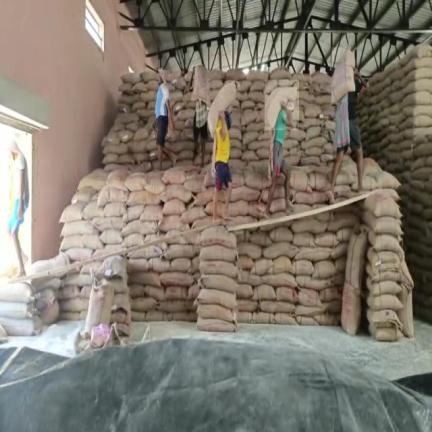Zone-Counting: (330, 51, 365, 201), (207, 82, 236, 218), (265, 88, 295, 212), (191, 65, 209, 163)
